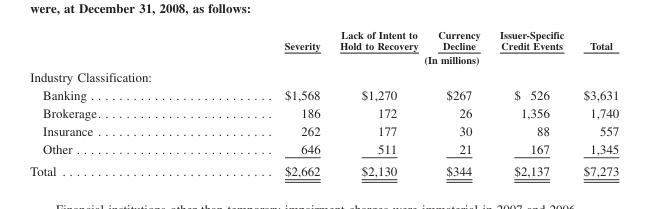table: (29, 28, 618, 177)
table column: (29, 28, 192, 177), (192, 28, 329, 177), (329, 28, 427, 177), (489, 28, 573, 177), (427, 28, 489, 177), (573, 28, 618, 177)
table column header: (29, 28, 618, 67)
table projected row header: (29, 67, 618, 85)
table row: (29, 28, 618, 51), (29, 139, 618, 159), (29, 67, 618, 85), (29, 85, 618, 103), (29, 103, 618, 121), (29, 121, 618, 139), (29, 159, 618, 177), (29, 51, 618, 67)
table spanning cell: (192, 51, 618, 67)
